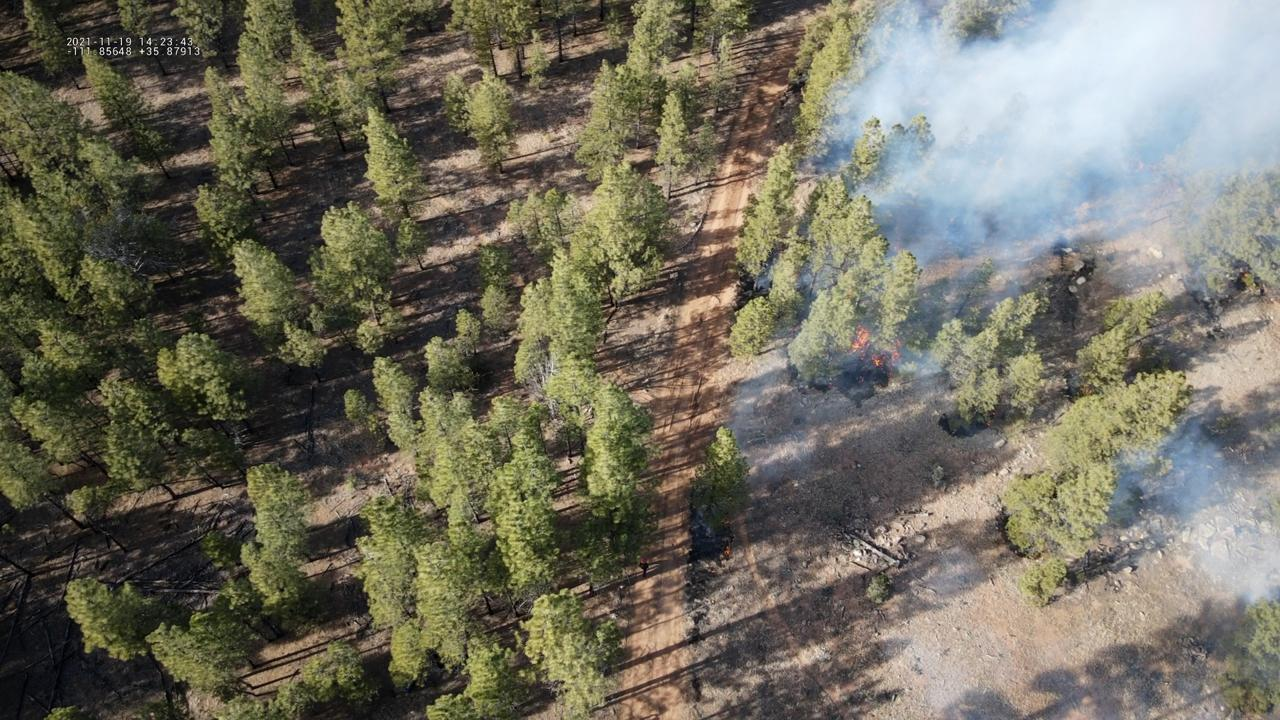fire: (870, 338, 903, 387), (845, 322, 870, 360), (722, 545, 730, 556)
smoke: (729, 0, 1280, 478), (1092, 408, 1280, 611), (691, 511, 715, 542)
